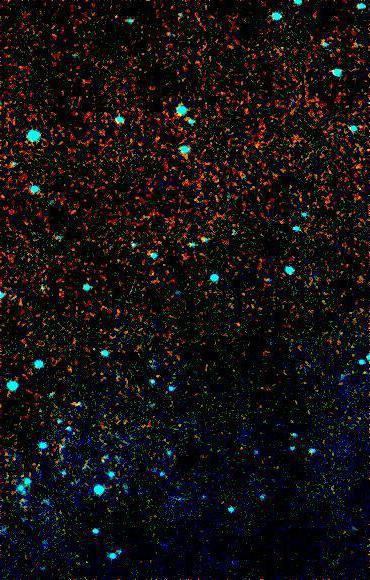star: (140, 354, 170, 384)
